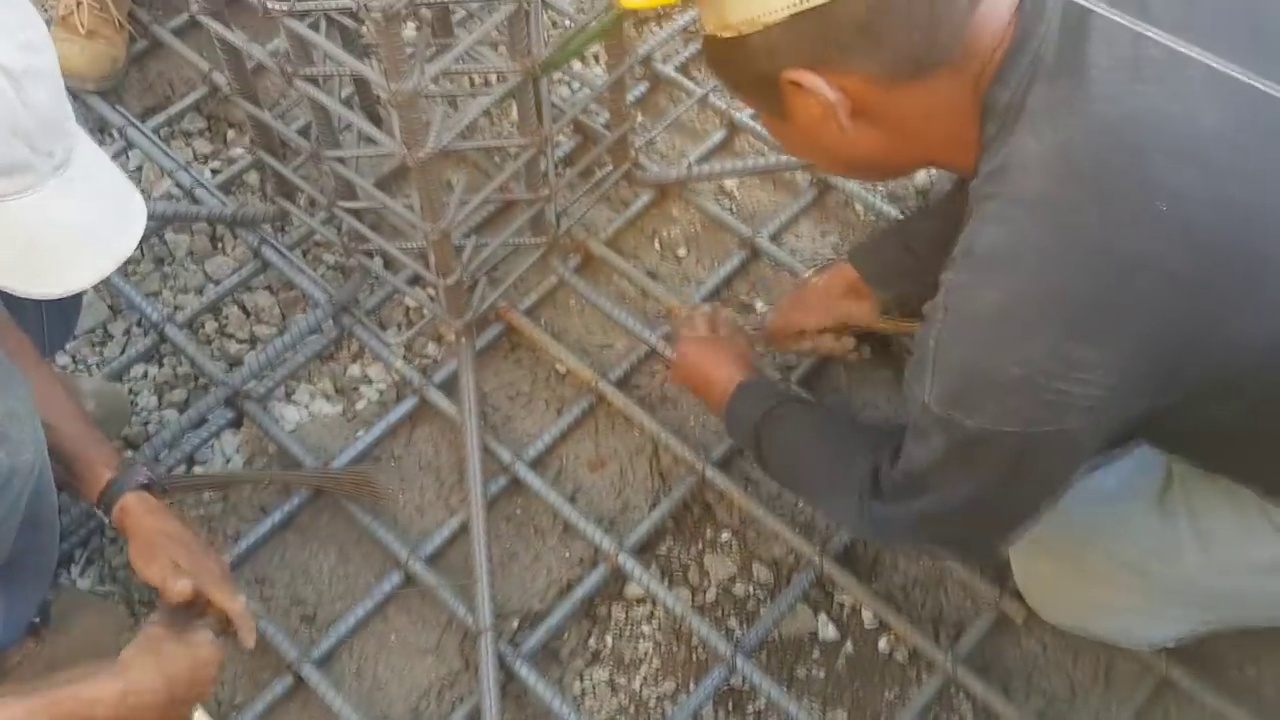helmet-off: (693, 0, 1028, 186), (0, 8, 151, 304)
person: (675, 0, 1280, 654), (0, 8, 249, 718)
